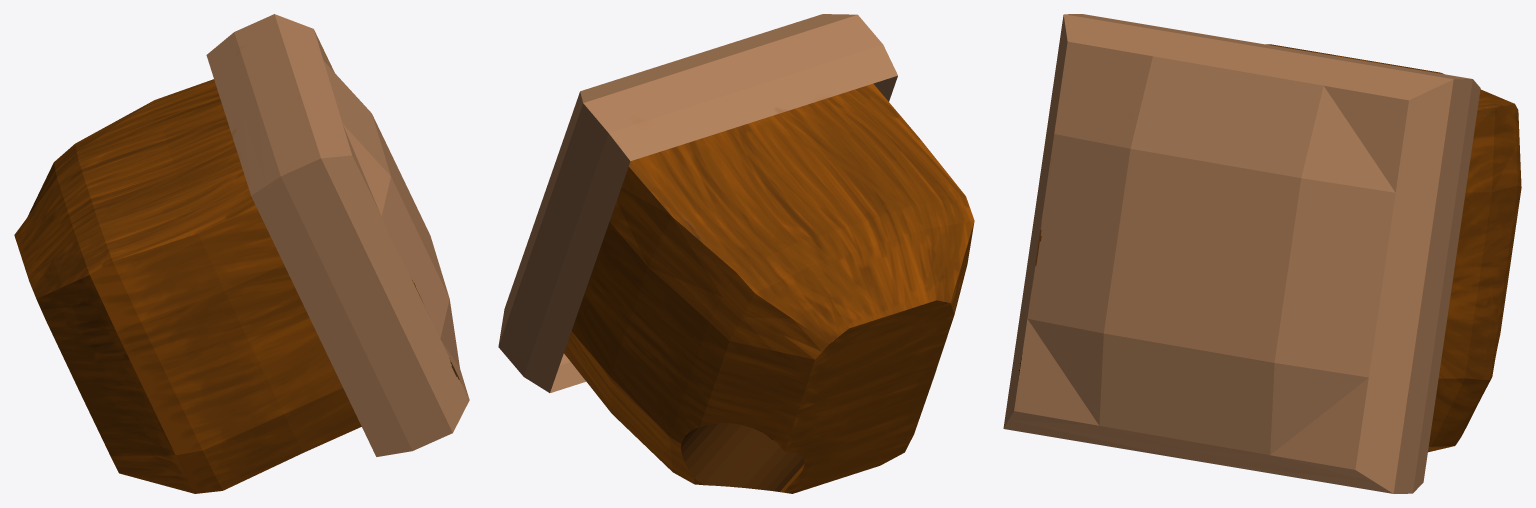
File: acorn_house.dae
3 views of the same model, side by side, from view 1: azimuth 30°, elevation 25°; view 2: azimuth 150°, elevation 25°; view 3: azimuth 270°, elevation 25° (orthographic). The views are drawn at different scales.
Parts seen in each view (by area): view 1: Cube; view 2: Cube; view 3: Cube.
Part boxes in pixels (x1,y1,x2,y2): Cube: (14, 14, 469, 493); Cube: (498, 14, 974, 493); Cube: (1003, 14, 1521, 493).
Size of the model in its own units: 4.08 by 3.56 by 3.4.
1 material, 1 textured.
